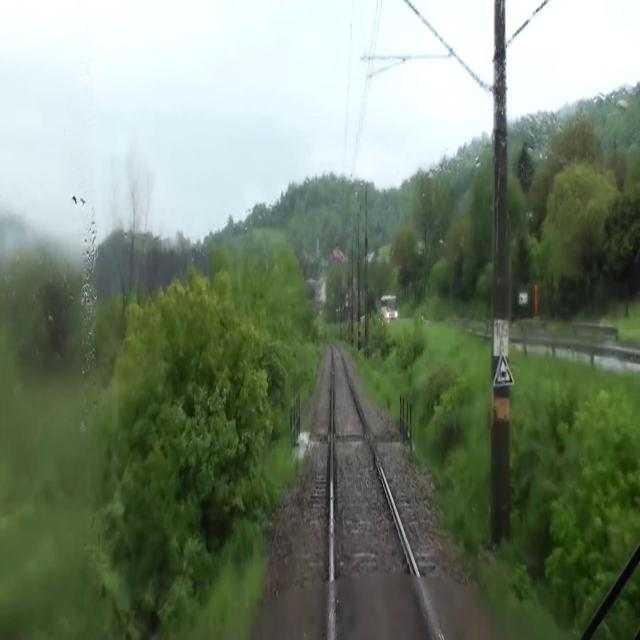rail-track: (332, 343, 439, 639)
